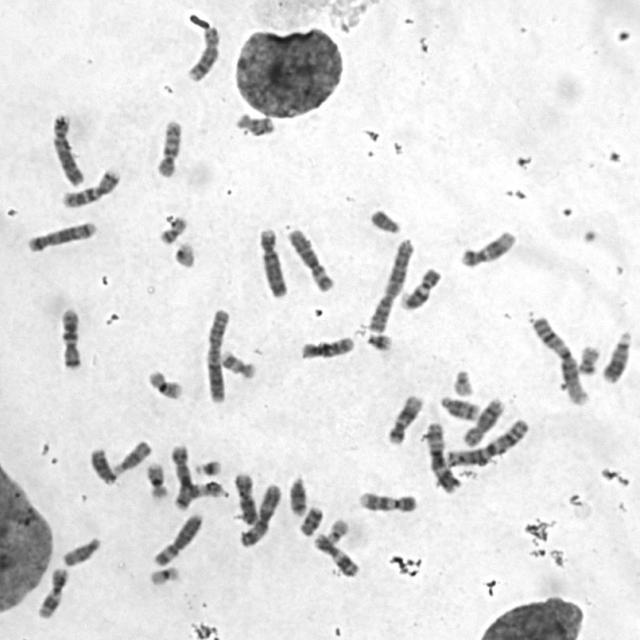A1: (528, 312, 591, 406), (441, 414, 532, 468)
A2: (364, 234, 415, 335), (201, 304, 232, 404)
A3: (236, 479, 284, 548), (423, 418, 462, 493)
B4: (48, 109, 88, 187), (255, 223, 291, 298)
B5: (24, 216, 98, 254), (167, 441, 195, 510)
C10: (152, 115, 184, 179), (297, 332, 357, 361)
C11: (310, 529, 362, 579), (33, 563, 71, 620)
C12: (456, 226, 518, 269), (384, 390, 425, 446)
C6: (285, 223, 337, 293), (149, 510, 205, 568)
C7: (58, 163, 123, 209), (56, 304, 84, 371)
C8: (459, 392, 506, 448), (184, 21, 222, 83)
C9: (396, 264, 443, 312), (355, 488, 420, 514)
D13: (600, 327, 634, 384), (86, 443, 119, 485)
D14: (437, 391, 482, 422), (285, 472, 309, 517)
D15: (110, 436, 154, 474), (59, 533, 103, 568)
E16: (144, 366, 185, 400), (142, 457, 171, 501)
E17: (217, 346, 258, 380), (184, 480, 230, 502)
E18: (232, 109, 278, 137), (296, 502, 325, 537)
F19: (145, 562, 183, 587), (170, 238, 198, 269)
F20: (156, 212, 190, 245), (574, 341, 603, 376)
G21: (192, 455, 224, 478), (364, 330, 394, 352)
G22: (321, 514, 351, 545), (449, 366, 476, 397)
X: (230, 468, 260, 526)
Y: (366, 205, 403, 235)
